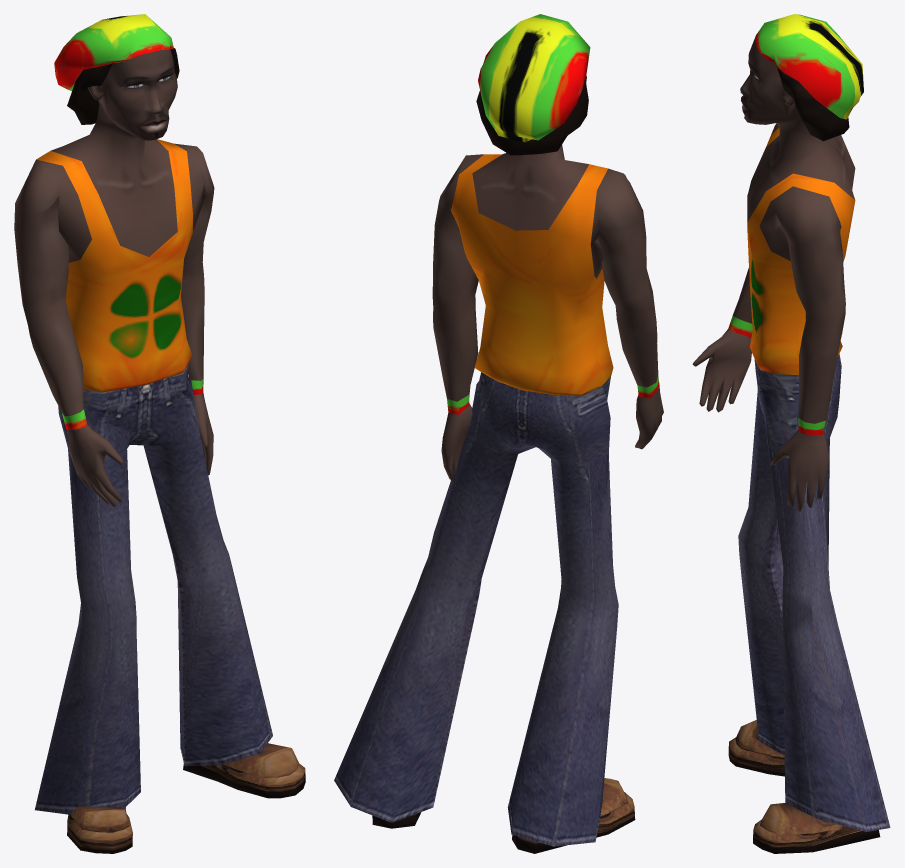
The model's file is Bob Ska.glb.
3 views of the same model, side by side, from view 1: azimuth 30°, elevation 25°; view 2: azimuth 150°, elevation 25°; view 3: azimuth 270°, elevation 25° (orthographic). The views are drawn at different scales.
Parts seen in each view (by area): view 1: BobOK; view 2: BobOK; view 3: BobOK.
Part boxes in pixels (x1=…): BobOK: x1=14, y1=14, x2=305, y2=853; BobOK: x1=334, y1=14, x2=663, y2=853; BobOK: x1=692, y1=14, x2=890, y2=853.
Bounding box in the file's own units: 1.62 × 4.46 × 1.05.
Materials: 1 (1 with a texture image).
